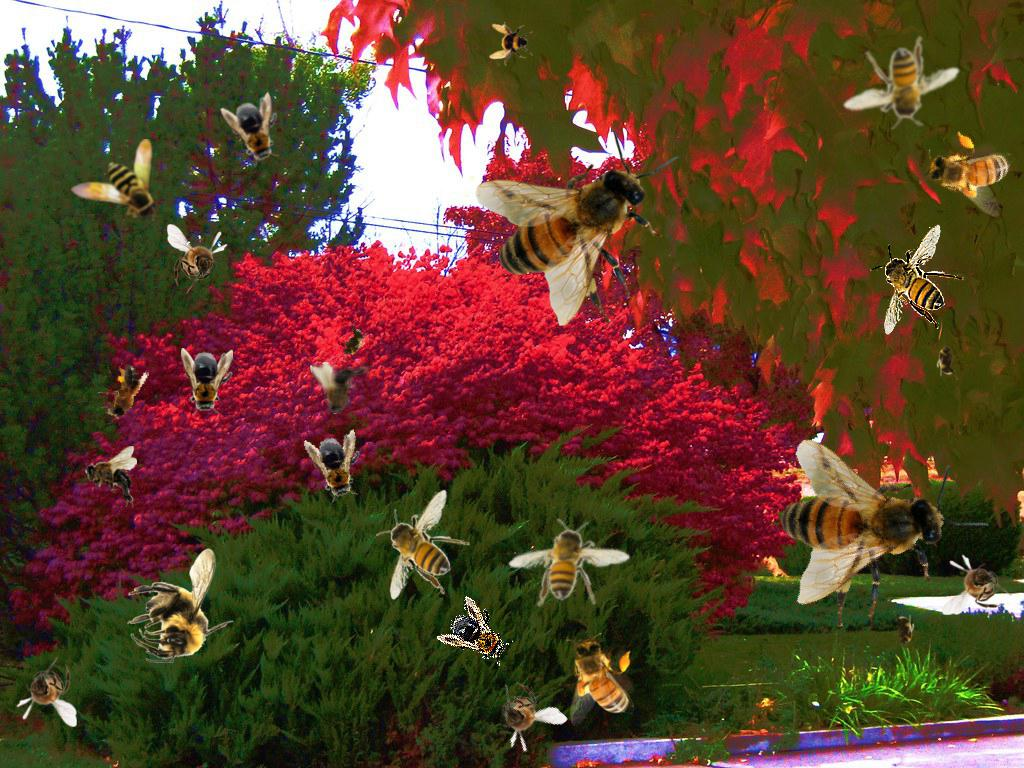Bee: (725, 388, 1006, 668), (475, 127, 679, 326), (825, 12, 972, 158), (500, 495, 643, 633), (127, 548, 234, 663), (913, 120, 1024, 223), (376, 489, 470, 600), (870, 224, 964, 335), (476, 669, 569, 763), (71, 139, 159, 221), (436, 594, 522, 676), (566, 633, 634, 726), (219, 89, 293, 173), (303, 427, 371, 507), (88, 356, 152, 433), (167, 224, 228, 294), (942, 554, 1012, 615), (16, 657, 77, 727), (181, 348, 233, 416), (310, 362, 372, 415), (84, 446, 137, 508), (489, 22, 533, 66), (332, 320, 374, 366), (936, 340, 958, 380), (893, 611, 915, 651)
